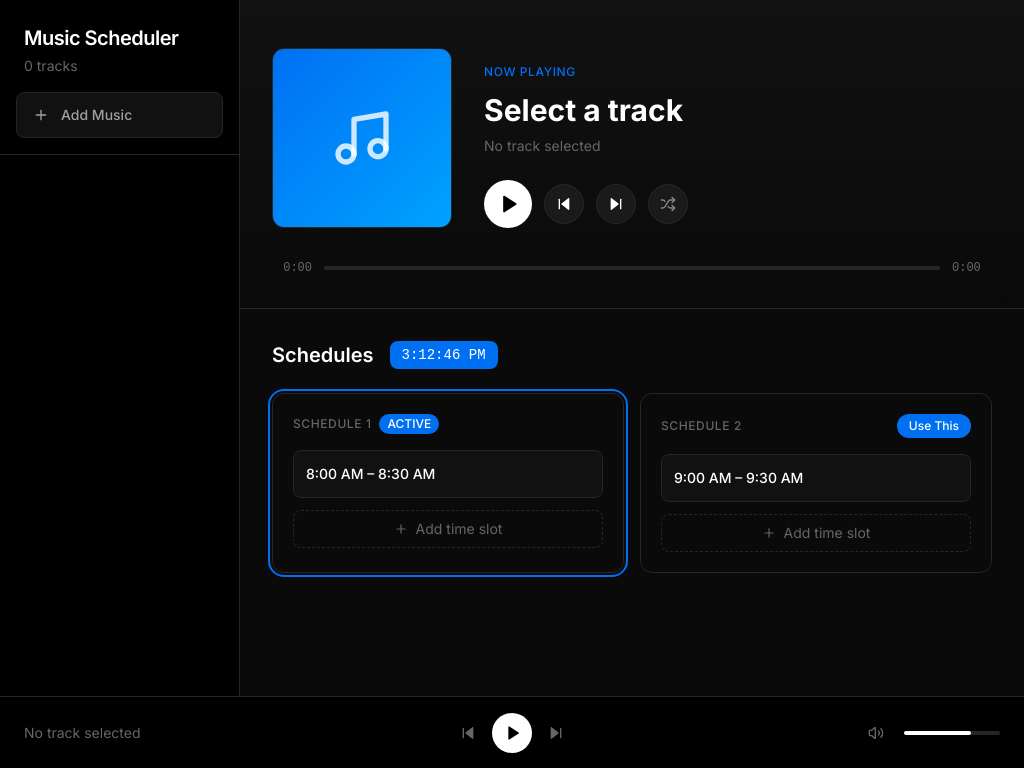
Test: MusicScheduler Component › Add Music Panel › shows bulk textarea when Bulk Add URLs is toggled
Click the button "Add Music" at (120, 115), box [16,92,223,138]
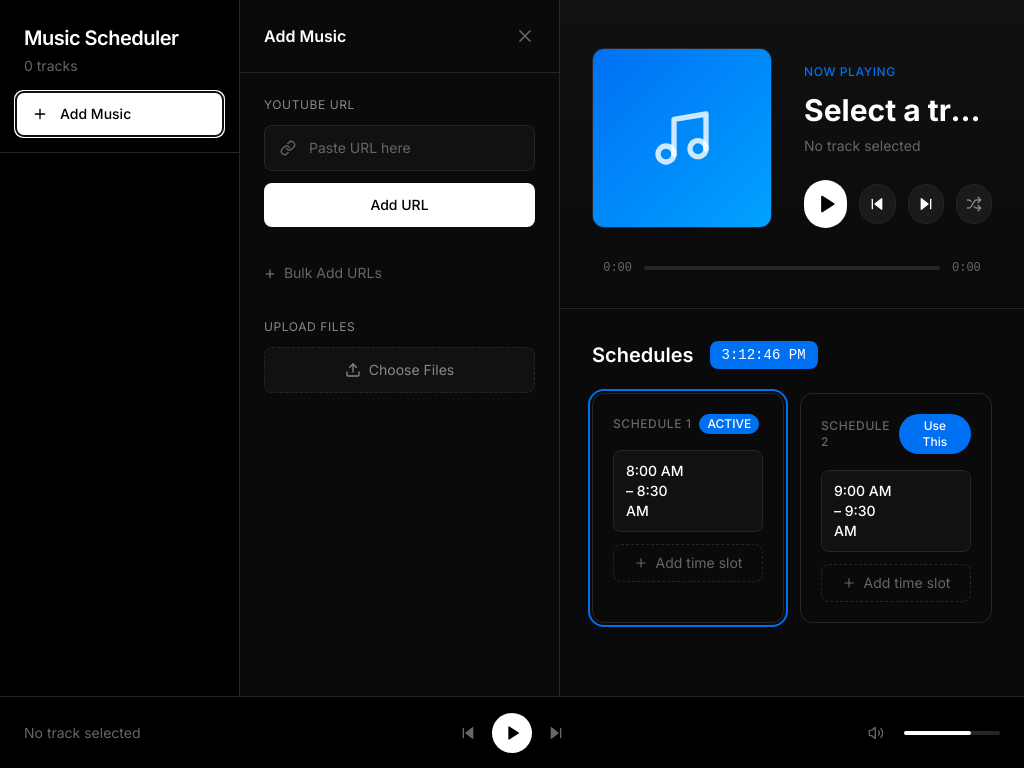
Click the button "+ Bulk Add URLs" at (333, 272), box [264,251,535,295]
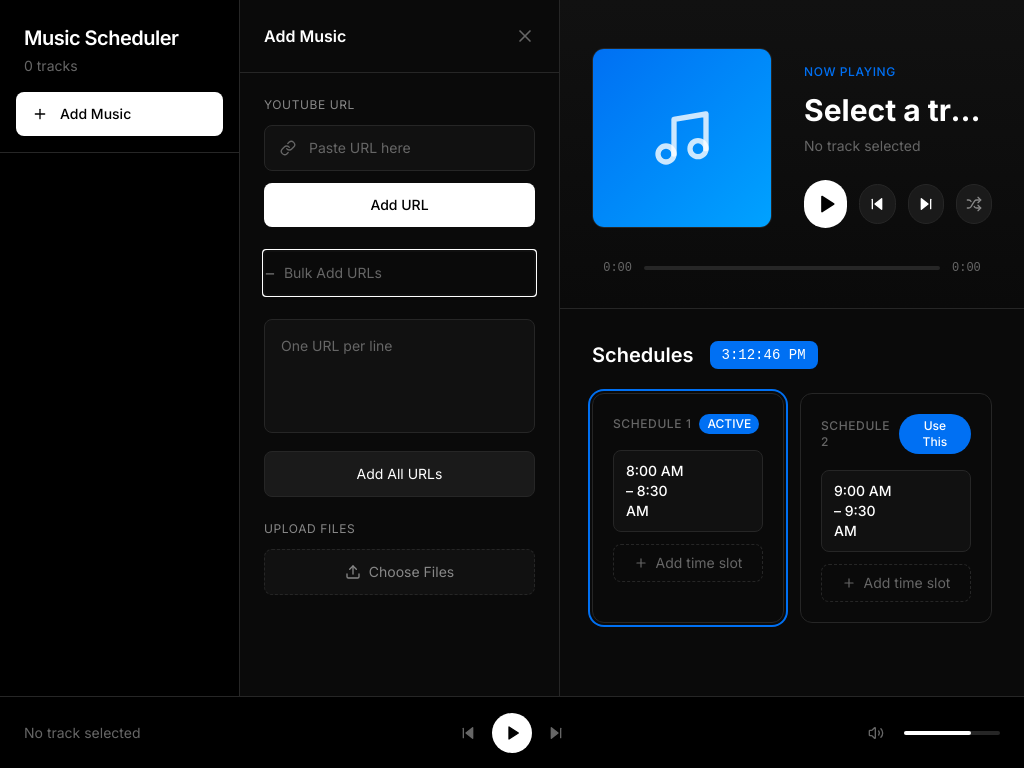
Result: the text box with placeholder "One URL per line" is shown at [264,319,535,433]
